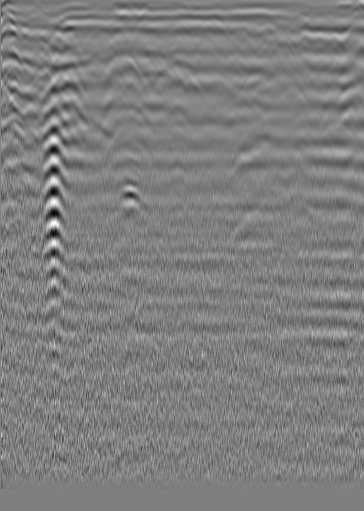가스: (110, 184, 144, 214)
상수: (19, 14, 39, 34)
오수: (292, 15, 312, 35)
우수: (165, 14, 185, 34)
